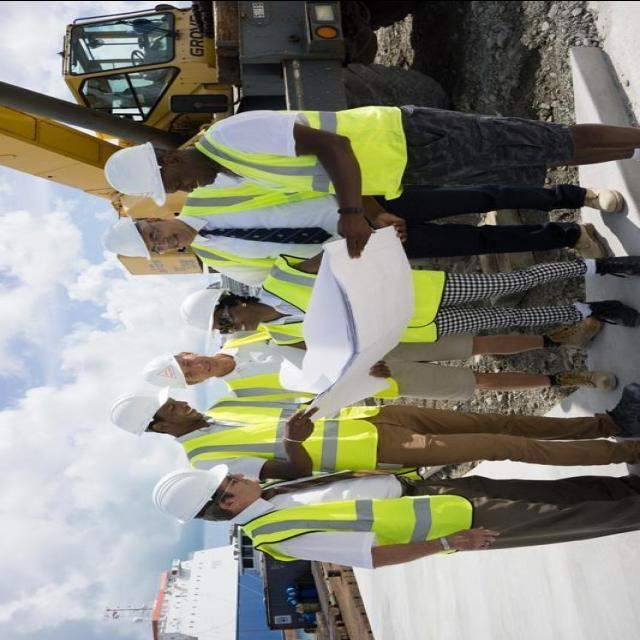helmet: (146, 459, 236, 533), (104, 142, 172, 207), (104, 384, 176, 444), (177, 282, 233, 338), (136, 350, 193, 393), (97, 215, 149, 256)
jacket: (243, 464, 487, 580), (198, 105, 422, 205), (264, 256, 446, 348), (157, 395, 382, 463)
